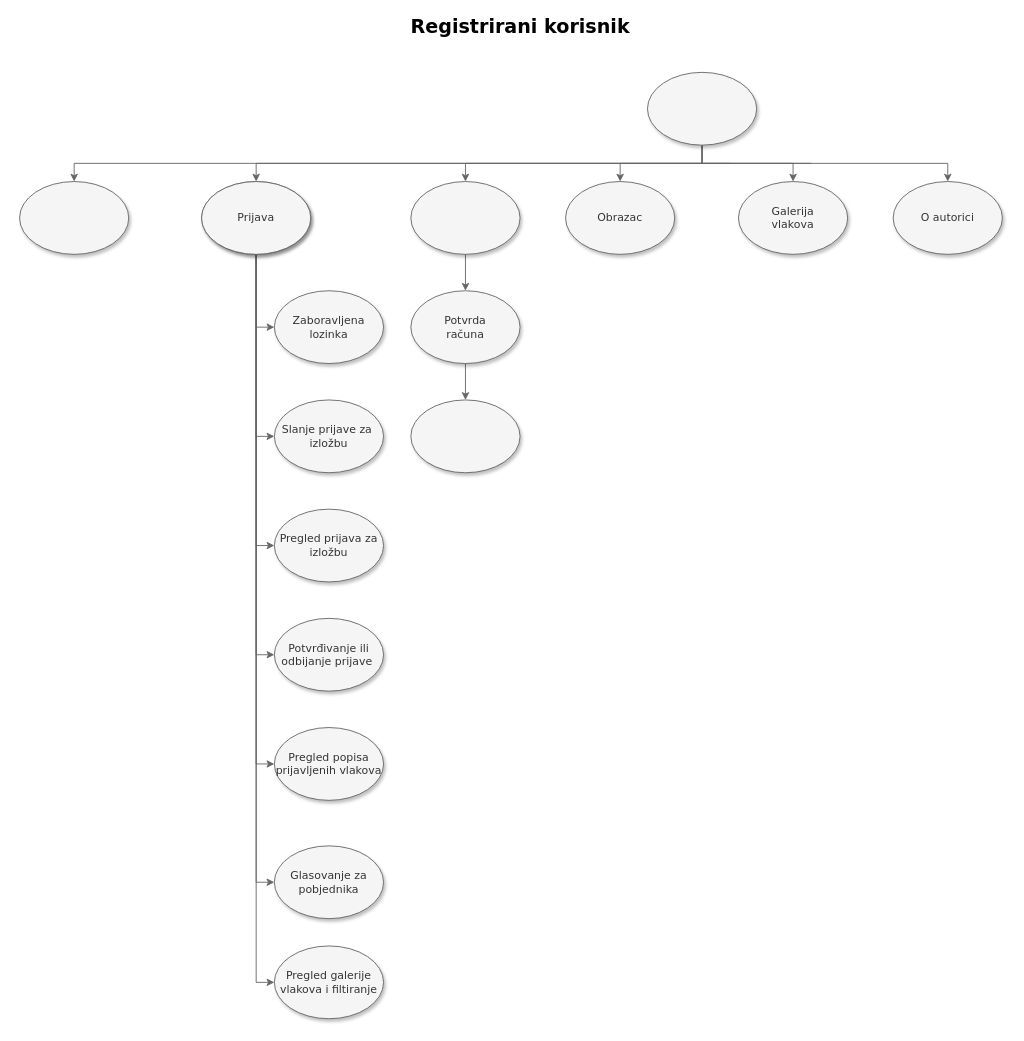
This 1024x1041 diagram has some shape labels left out. The centre of each missing label's shape, as x and y in pixels:
"Aktivacija" belongs at point (466, 437).
"Dokumentacija" belongs at point (74, 219).
"Početna stranica" belongs at point (702, 110).
"Registracija" belongs at point (466, 219).
